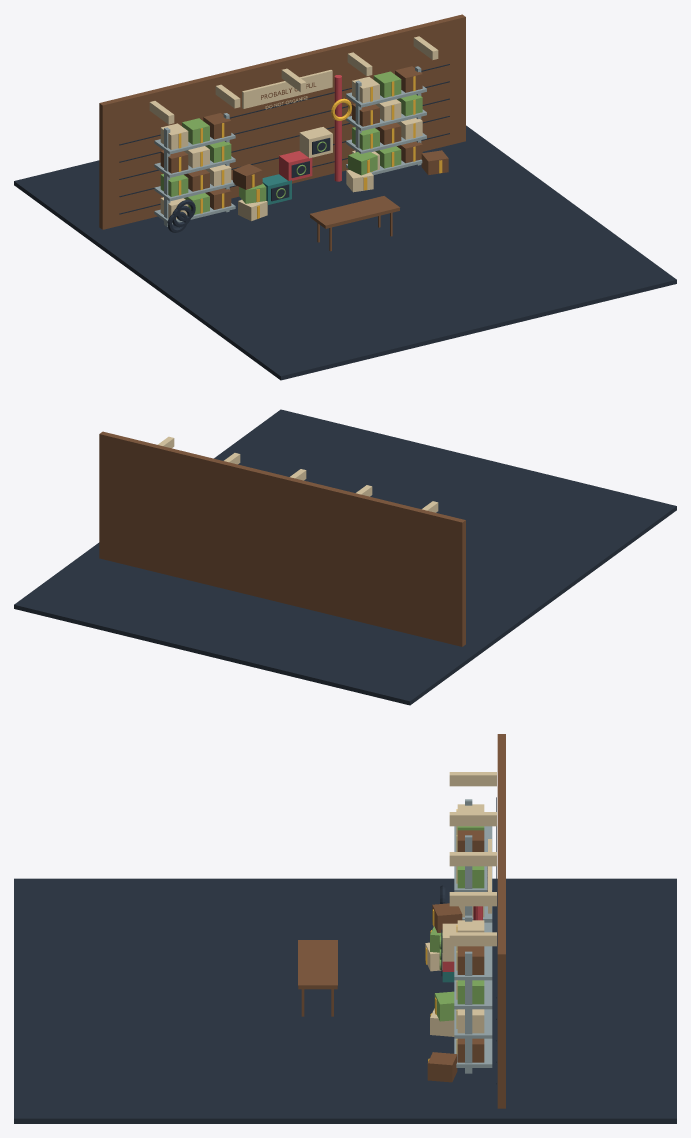
Rendered from theatre-basement.glb.
The picture shows the model from 3 angles, top to bottom: view 1: azimuth 30°, elevation 25°; view 2: azimuth 150°, elevation 25°; view 3: azimuth 270°, elevation 25°; orthographic projection. The views are drawn at different scales.
Parts seen in each view (by area): view 1: Floor, BG_Wall, BG_Sign, Table_top, BG_Pipe, BG_ObsoleteTV.002, BG_ObsoleteTV.001, BG_CrookedHoard.002, BG_CrookedHoard.004, BG_CrookedHoard.005; view 2: Floor, BG_Wall; view 3: Floor, BG_Wall, Table_top, BG_ShelfUpright.003, BG_CrookedHoard.005, BG_Joist, BG_Joist.001, BG_Joist.002, BG_Joist.003, BG_Joist.004, BG_KeptBox.023, BG_CrookedHoard.002 (+1 smaller).
Part boxes in pixels (<box>): Floor: <box>14,125,676,380</box>; BG_Wall: <box>99,14,465,229</box>; BG_Sign: <box>242,70,332,108</box>; Table_top: <box>309,196,400,226</box>; BG_Pipe: <box>334,75,341,181</box>; BG_ObsoleteTV.002: <box>299,127,332,158</box>; BG_ObsoleteTV.001: <box>279,151,312,180</box>; BG_CrookedHoard.002: <box>233,164,262,189</box>; BG_CrookedHoard.004: <box>348,152,377,175</box>; BG_CrookedHoard.005: <box>421,150,448,175</box>; Floor: <box>14,409,676,705</box>; BG_Wall: <box>99,431,465,646</box>; Floor: <box>14,878,676,1123</box>; BG_Wall: <box>497,734,505,1108</box>; Table_top: <box>298,940,337,985</box>; BG_ShelfUpright.003: <box>465,951,472,1073</box>; BG_CrookedHoard.005: <box>427,1052,457,1082</box>; BG_Joist: <box>449,772,496,786</box>; BG_Joist.001: <box>449,812,496,826</box>; BG_Joist.002: <box>449,852,496,866</box>; BG_Joist.003: <box>449,892,496,906</box>; BG_Joist.004: <box>449,932,496,946</box>; BG_KeptBox.023: <box>457,946,484,974</box>; BG_CrookedHoard.002: <box>432,903,462,932</box>.
Bounding box in the file's own units: 12 × 3.72 × 14.
